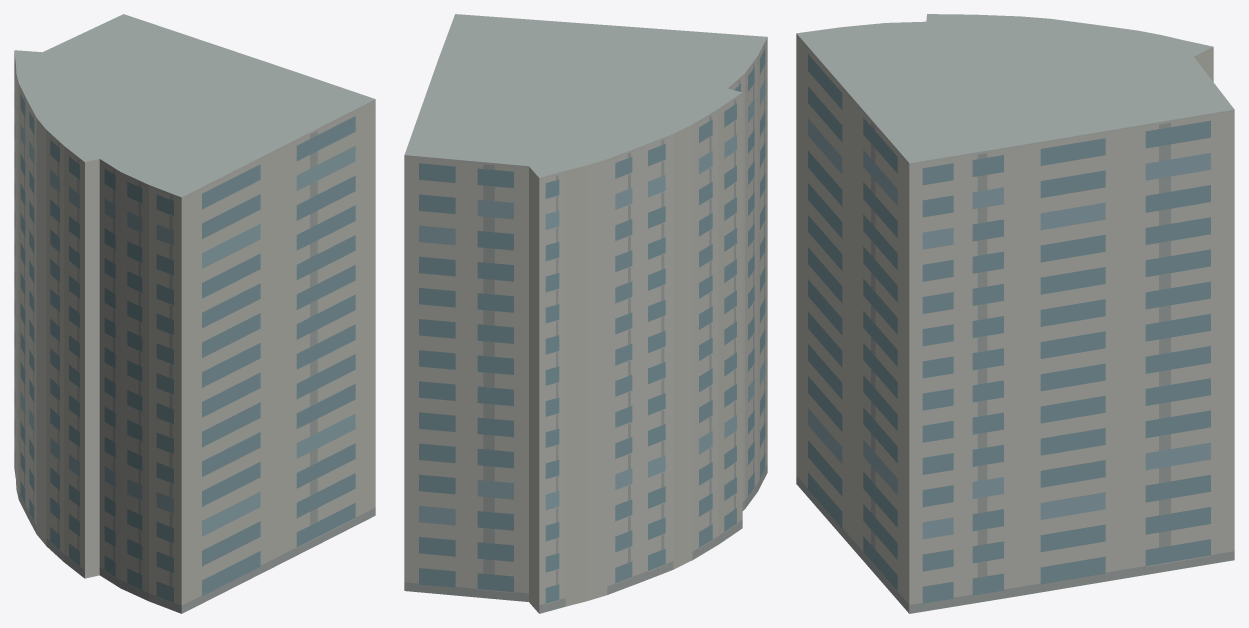
Rendered from residential-589e02c2-373a-4e62-af5e-eabaece152b8.glb.
3 renders of one model, left to right at view 1: azimuth 30°, elevation 25°; view 2: azimuth 150°, elevation 25°; view 3: azimuth 270°, elevation 25°, orthographic. The views are drawn at different scales.
Visible parts, largest first — view 1: residential-589e02c2-373a-4e62-af5e-eabaece152b8.tmp; view 2: residential-589e02c2-373a-4e62-af5e-eabaece152b8.tmp; view 3: residential-589e02c2-373a-4e62-af5e-eabaece152b8.tmp.
Part boxes in pixels (left/top/right/bottom): residential-589e02c2-373a-4e62-af5e-eabaece152b8.tmp: left=14, top=14, right=375, bottom=613; residential-589e02c2-373a-4e62-af5e-eabaece152b8.tmp: left=404, top=14, right=767, bottom=613; residential-589e02c2-373a-4e62-af5e-eabaece152b8.tmp: left=796, top=14, right=1234, bottom=613.
Bounding box in the file's own units: 32.69 × 46 × 40.55.
